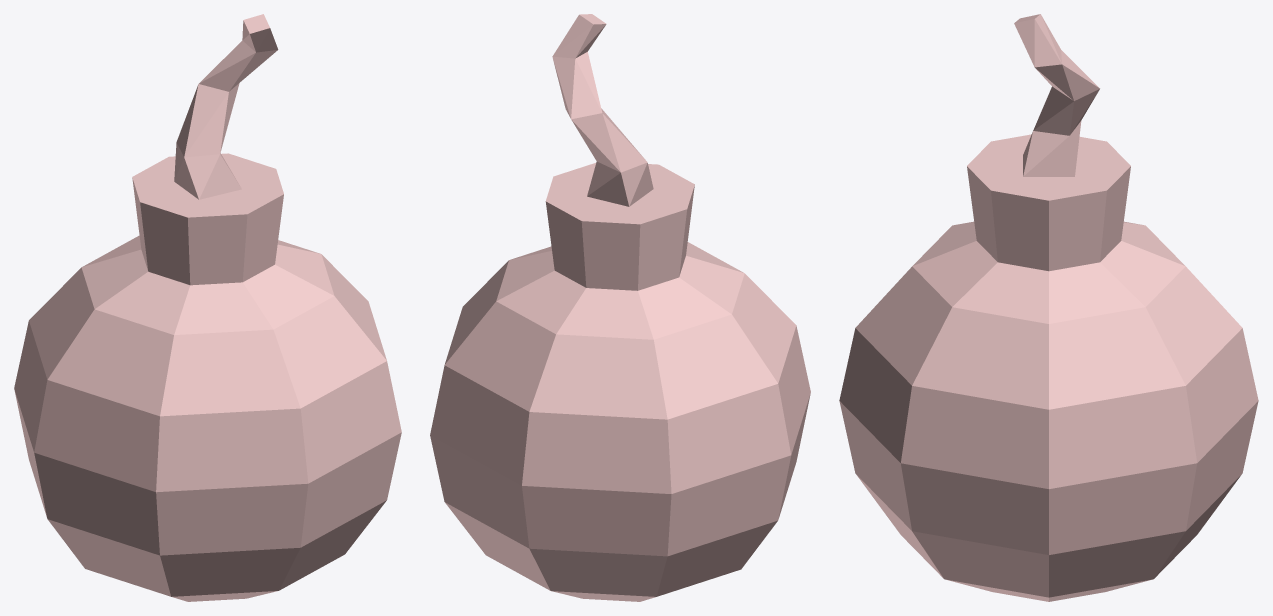
File: SM_Item_Bomb_01.glb
3 views of the same model, side by side, from view 1: azimuth 30°, elevation 25°; view 2: azimuth 150°, elevation 25°; view 3: azimuth 270°, elevation 25° (orthographic). The views are drawn at different scales.
Visible parts, largest first — view 1: SM_Item_Bomb_01_00; view 2: SM_Item_Bomb_01_00; view 3: SM_Item_Bomb_01_00.
Part boxes in pixels (bbox=[...]): SM_Item_Bomb_01_00: bbox=[14, 14, 401, 601]; SM_Item_Bomb_01_00: bbox=[430, 14, 810, 601]; SM_Item_Bomb_01_00: bbox=[839, 14, 1258, 601].
Bounding box in the file's own units: 0.139 × 0.2101 × 0.139.
1 material, 1 textured.
